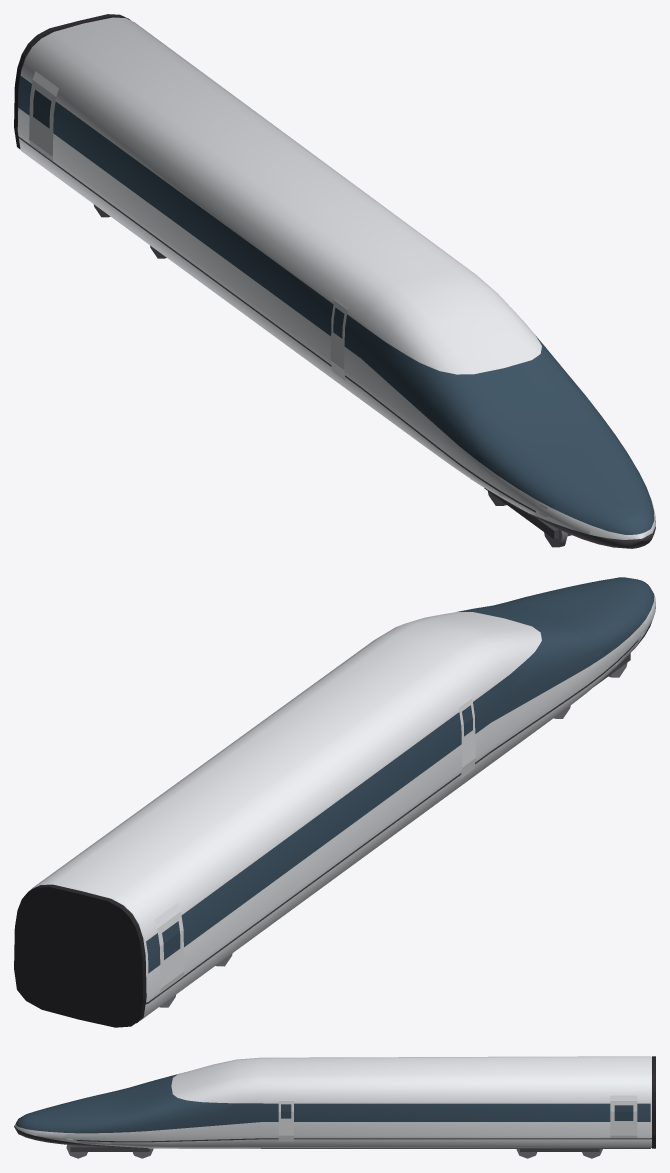
The picture shows the model from 3 angles, top to bottom: view 1: azimuth 30°, elevation 25°; view 2: azimuth 150°, elevation 25°; view 3: azimuth 270°, elevation 25°; orthographic projection. The views are drawn at different scales.
Parts seen in each view (by area): view 1: 23_1; view 2: 23_1; view 3: 23_1.
Part boxes in pixels (box(x1,y1,x2,y2)): 23_1: box(14, 14, 655, 548); 23_1: box(14, 577, 655, 1027); 23_1: box(14, 1056, 655, 1158).
Size of the model in its own units: 3.37 by 3.62 by 25.
